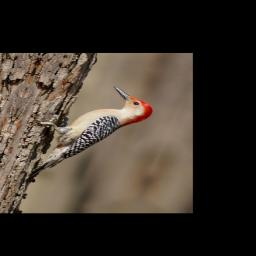Woodpecker: (11, 76, 164, 192)
